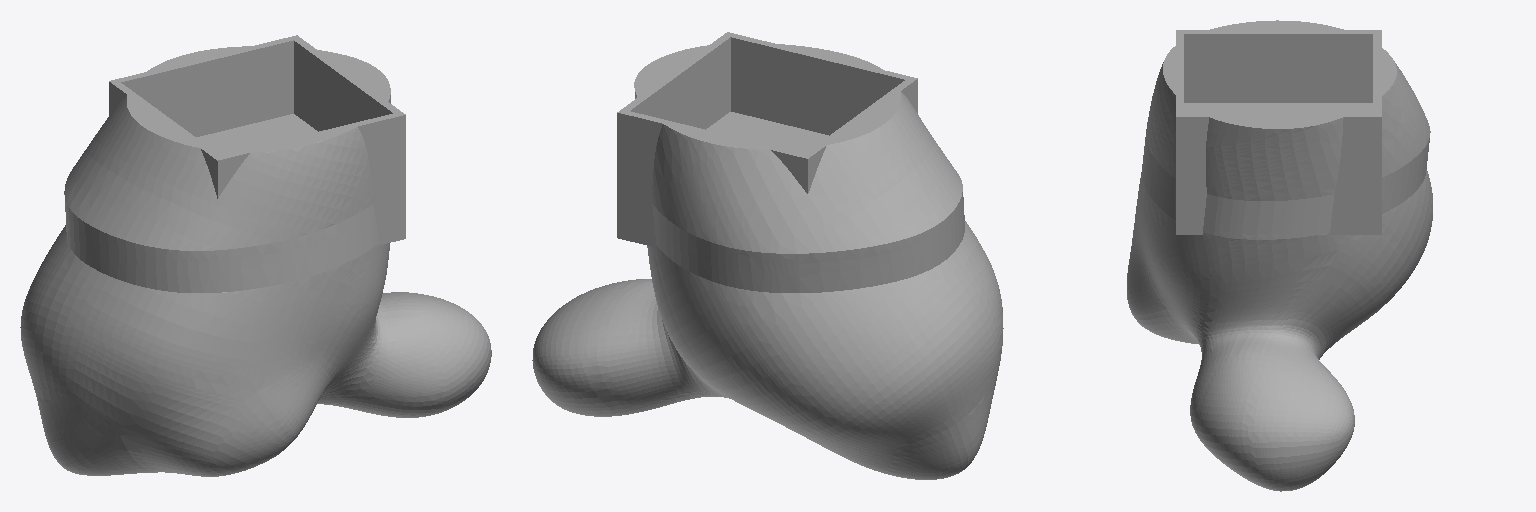
The robot description file, URDF, robot "FrogBot5_top-FrogBot5-y-2_bottom-FrogBot5-y-2":
<?xml version="1.0" ?>
<robot name="FrogBot5_top-FrogBot5-y-2_bottom-FrogBot5-y-2">

<material name="pla_5_percent_infill">
  <color rgba="0.700 0.700 0.700 1.000"/>
</material>

<link name="base_link">
  <inertial>
    <origin xyz="0 0 0" rpy="0 0 0"/>
    <mass value="1.4805118043364613"/>
    <inertia ixx="0.00519778244400068" iyy="0.011185972187213383" izz="0.012581059264896973" ixy="-0.0002102027550041139" iyz="-1.09064860282594e-05" ixz="-0.0008439426245005397"/>
  </inertial>
  <visual>
    <origin xyz="0 0 0" rpy="0 0 0"/>
    <geometry>
      <mesh filename="simple_meshes/base_link.stl" scale="0.001 0.001 0.001"/>
    </geometry>
    <material name="pla_5_percent_infill"/>
  </visual>
  <collision>
    <origin xyz="0 0 0" rpy="0 0 0"/>
    <geometry>
      <mesh filename="simple_meshes/base_link.stl" scale="0.001 0.001 0.001"/>
    </geometry>
  </collision>
</link>

<link name="body_1_0_1">
  <inertial>
    <origin xyz="-0.05492 -0.106321 -0.011198" rpy="0 0 0"/>
    <mass value="0.03190893016003801"/>
    <inertia ixx="2.4429898942020614e-05" iyy="2.7275982920612618e-05" izz="1.1434922102886071e-05" ixy="-8.511222338172071e-08" iyz="-1.420432485083929e-06" ixz="-8.68195859637681e-07"/>
  </inertial>
  <visual>
    <origin xyz="-0.05492 -0.106321 -0.011198" rpy="0 0 0"/>
    <geometry>
      <mesh filename="simple_meshes/body_1_0_1.stl" scale="0.001 0.001 0.001"/>
    </geometry>
    <material name="pla_5_percent_infill"/>
  </visual>
  <collision>
    <origin xyz="-0.05492 -0.106321 -0.011198" rpy="0 0 0"/>
    <geometry>
      <mesh filename="simple_meshes/body_1_0_1.stl" scale="0.001 0.001 0.001"/>
    </geometry>
  </collision>
</link>

<link name="body_1_1_1">
  <inertial>
    <origin xyz="0.058377 -0.106321 -0.025493" rpy="0 0 0"/>
    <mass value="0.052491266005535574"/>
    <inertia ixx="4.8257280305906425e-05" iyy="6.954699838675188e-05" izz="3.656339945115128e-05" ixy="-1.7908794482598706e-06" iyz="-7.955847608754994e-07" ixz="-2.2356305458316844e-05"/>
  </inertial>
  <visual>
    <origin xyz="0.058377 -0.106321 -0.025493" rpy="0 0 0"/>
    <geometry>
      <mesh filename="simple_meshes/body_1_1_1.stl" scale="0.001 0.001 0.001"/>
    </geometry>
    <material name="pla_5_percent_infill"/>
  </visual>
  <collision>
    <origin xyz="0.058377 -0.106321 -0.025493" rpy="0 0 0"/>
    <geometry>
      <mesh filename="simple_meshes/body_1_1_1.stl" scale="0.001 0.001 0.001"/>
    </geometry>
  </collision>
</link>

<link name="body_1_2_1">
  <inertial>
    <origin xyz="-0.053934 0.106321 -0.032331" rpy="0 0 0"/>
    <mass value="0.04528282570788592"/>
    <inertia ixx="4.6550121856413e-05" iyy="5.193071462967827e-05" izz="1.6522551288097355e-05" ixy="8.270233758516125e-08" iyz="-1.1493234214251516e-08" ixz="6.384866717018934e-06"/>
  </inertial>
  <visual>
    <origin xyz="-0.053934 0.106321 -0.032331" rpy="0 0 0"/>
    <geometry>
      <mesh filename="simple_meshes/body_1_2_1.stl" scale="0.001 0.001 0.001"/>
    </geometry>
    <material name="pla_5_percent_infill"/>
  </visual>
  <collision>
    <origin xyz="-0.053934 0.106321 -0.032331" rpy="0 0 0"/>
    <geometry>
      <mesh filename="simple_meshes/body_1_2_1.stl" scale="0.001 0.001 0.001"/>
    </geometry>
  </collision>
</link>

<link name="body_1_3_1">
  <inertial>
    <origin xyz="0.057483 0.106321 -0.032919" rpy="0 0 0"/>
    <mass value="0.05070974172626571"/>
    <inertia ixx="5.066073609378977e-05" iyy="6.7181989017562e-05" izz="2.932919879109863e-05" ixy="-6.577252664034024e-07" iyz="-1.820119408813464e-06" ixz="-1.9680371224464432e-05"/>
  </inertial>
  <visual>
    <origin xyz="0.057483 0.106321 -0.032919" rpy="0 0 0"/>
    <geometry>
      <mesh filename="simple_meshes/body_1_3_1.stl" scale="0.001 0.001 0.001"/>
    </geometry>
    <material name="pla_5_percent_infill"/>
  </visual>
  <collision>
    <origin xyz="0.057483 0.106321 -0.032919" rpy="0 0 0"/>
    <geometry>
      <mesh filename="simple_meshes/body_1_3_1.stl" scale="0.001 0.001 0.001"/>
    </geometry>
  </collision>
</link>

<link name="body_2_0_1">
  <inertial>
    <origin xyz="-0.051784 -0.143449 0.080454" rpy="0 0 0"/>
    <mass value="0.07760875051303201"/>
    <inertia ixx="7.662273675442194e-05" iyy="8.393004935969761e-05" izz="9.35027023761211e-05" ixy="-4.54805802130049e-06" iyz="3.7950665444104036e-06" ixz="-1.307774025447665e-06"/>
  </inertial>
  <visual>
    <origin xyz="-0.051784 -0.143449 0.080454" rpy="0 0 0"/>
    <geometry>
      <mesh filename="simple_meshes/body_2_0_1.stl" scale="0.001 0.001 0.001"/>
    </geometry>
    <material name="pla_5_percent_infill"/>
  </visual>
  <collision>
    <origin xyz="-0.051784 -0.143449 0.080454" rpy="0 0 0"/>
    <geometry>
      <mesh filename="simple_meshes/body_2_0_1.stl" scale="0.001 0.001 0.001"/>
    </geometry>
  </collision>
</link>

<link name="body_2_1_1">
  <inertial>
    <origin xyz="0.108798 -0.147527 0.080454" rpy="0 0 0"/>
    <mass value="0.08927521415235605"/>
    <inertia ixx="5.059492834724342e-05" iyy="7.031797062725205e-05" izz="7.02220438275284e-05" ixy="-2.0383774248376903e-06" iyz="-3.0294926272461664e-09" ixz="-1.4148800505534107e-06"/>
  </inertial>
  <visual>
    <origin xyz="0.108798 -0.147527 0.080454" rpy="0 0 0"/>
    <geometry>
      <mesh filename="simple_meshes/body_2_1_1.stl" scale="0.001 0.001 0.001"/>
    </geometry>
    <material name="pla_5_percent_infill"/>
  </visual>
  <collision>
    <origin xyz="0.108798 -0.147527 0.080454" rpy="0 0 0"/>
    <geometry>
      <mesh filename="simple_meshes/body_2_1_1.stl" scale="0.001 0.001 0.001"/>
    </geometry>
  </collision>
</link>

<link name="body_2_2_1">
  <inertial>
    <origin xyz="-0.065031 0.147225 0.080454" rpy="0 0 0"/>
    <mass value="0.07657926924251547"/>
    <inertia ixx="7.528644161000023e-05" iyy="7.35970162488277e-05" izz="8.594488308659226e-05" ixy="6.021758922198999e-06" iyz="-2.343747949047235e-06" ixz="-3.689037848296408e-06"/>
  </inertial>
  <visual>
    <origin xyz="-0.065031 0.147225 0.080454" rpy="0 0 0"/>
    <geometry>
      <mesh filename="simple_meshes/body_2_2_1.stl" scale="0.001 0.001 0.001"/>
    </geometry>
    <material name="pla_5_percent_infill"/>
  </visual>
  <collision>
    <origin xyz="-0.065031 0.147225 0.080454" rpy="0 0 0"/>
    <geometry>
      <mesh filename="simple_meshes/body_2_2_1.stl" scale="0.001 0.001 0.001"/>
    </geometry>
  </collision>
</link>

<link name="body_2_3_1">
  <inertial>
    <origin xyz="0.101339 0.151086 0.080454" rpy="0 0 0"/>
    <mass value="0.10061755237812887"/>
    <inertia ixx="6.449725713528372e-05" iyy="9.468606929102395e-05" izz="8.360080327839354e-05" ixy="7.214355447653694e-07" iyz="-2.9852871009129756e-06" ixz="4.464565758604926e-06"/>
  </inertial>
  <visual>
    <origin xyz="0.101339 0.151086 0.080454" rpy="0 0 0"/>
    <geometry>
      <mesh filename="simple_meshes/body_2_3_1.stl" scale="0.001 0.001 0.001"/>
    </geometry>
    <material name="pla_5_percent_infill"/>
  </visual>
  <collision>
    <origin xyz="0.101339 0.151086 0.080454" rpy="0 0 0"/>
    <geometry>
      <mesh filename="simple_meshes/body_2_3_1.stl" scale="0.001 0.001 0.001"/>
    </geometry>
  </collision>
</link>

<joint name="joint_1_0" type="revolute">
  <origin xyz="0.05492 0.106321 0.011198" rpy="0 0 0"/>
  <parent link="base_link"/>
  <child link="body_1_0_1"/>
  <axis xyz="0.0 0.0 -1.0"/>
  <limit upper="1.2" lower="-1.2" effort="3.8" velocity="5.4"/>
</joint>
<transmission name="joint_1_0_tran">
  <type>transmission_interface/SimpleTransmission</type>
  <joint name="joint_1_0">
    <hardwareInterface>PositionJointInterface</hardwareInterface>
  </joint>
  <actuator name="joint_1_0_actr">
    <hardwareInterface>PositionJointInterface</hardwareInterface>
    <mechanicalReduction>1</mechanicalReduction>
  </actuator>
</transmission>

<joint name="joint_1_1" type="revolute">
  <origin xyz="-0.058377 0.106321 0.025493" rpy="0 0 0"/>
  <parent link="base_link"/>
  <child link="body_1_1_1"/>
  <axis xyz="0.0 0.0 -1.0"/>
  <limit upper="1.2" lower="-1.2" effort="3.8" velocity="5.4"/>
</joint>
<transmission name="joint_1_1_tran">
  <type>transmission_interface/SimpleTransmission</type>
  <joint name="joint_1_1">
    <hardwareInterface>PositionJointInterface</hardwareInterface>
  </joint>
  <actuator name="joint_1_1_actr">
    <hardwareInterface>PositionJointInterface</hardwareInterface>
    <mechanicalReduction>1</mechanicalReduction>
  </actuator>
</transmission>

<joint name="joint_1_2" type="revolute">
  <origin xyz="0.053934 -0.106321 0.032331" rpy="0 0 0"/>
  <parent link="base_link"/>
  <child link="body_1_2_1"/>
  <axis xyz="0.0 0.0 -1.0"/>
  <limit upper="1.2" lower="-1.2" effort="3.8" velocity="5.4"/>
</joint>
<transmission name="joint_1_2_tran">
  <type>transmission_interface/SimpleTransmission</type>
  <joint name="joint_1_2">
    <hardwareInterface>PositionJointInterface</hardwareInterface>
  </joint>
  <actuator name="joint_1_2_actr">
    <hardwareInterface>PositionJointInterface</hardwareInterface>
    <mechanicalReduction>1</mechanicalReduction>
  </actuator>
</transmission>

<joint name="joint_1_3" type="revolute">
  <origin xyz="-0.057483 -0.106321 0.032919" rpy="0 0 0"/>
  <parent link="base_link"/>
  <child link="body_1_3_1"/>
  <axis xyz="0.0 0.0 -1.0"/>
  <limit upper="1.2" lower="-1.2" effort="3.8" velocity="5.4"/>
</joint>
<transmission name="joint_1_3_tran">
  <type>transmission_interface/SimpleTransmission</type>
  <joint name="joint_1_3">
    <hardwareInterface>PositionJointInterface</hardwareInterface>
  </joint>
  <actuator name="joint_1_3_actr">
    <hardwareInterface>PositionJointInterface</hardwareInterface>
    <mechanicalReduction>1</mechanicalReduction>
  </actuator>
</transmission>

<joint name="joint_2_0" type="revolute">
  <origin xyz="-0.003136 0.037128 -0.091652" rpy="0 0 0"/>
  <parent link="body_1_0_1"/>
  <child link="body_2_0_1"/>
  <axis xyz="0.0 1.0 0.0"/>
  <limit upper="1.2" lower="-1.2" effort="3.8" velocity="5.4"/>
</joint>
<transmission name="joint_2_0_tran">
  <type>transmission_interface/SimpleTransmission</type>
  <joint name="joint_2_0">
    <hardwareInterface>PositionJointInterface</hardwareInterface>
  </joint>
  <actuator name="joint_2_0_actr">
    <hardwareInterface>PositionJointInterface</hardwareInterface>
    <mechanicalReduction>1</mechanicalReduction>
  </actuator>
</transmission>

<joint name="joint_2_1" type="revolute">
  <origin xyz="-0.050421 0.041206 -0.105947" rpy="0 0 0"/>
  <parent link="body_1_1_1"/>
  <child link="body_2_1_1"/>
  <axis xyz="0.0 1.0 0.0"/>
  <limit upper="1.2" lower="-1.2" effort="3.8" velocity="5.4"/>
</joint>
<transmission name="joint_2_1_tran">
  <type>transmission_interface/SimpleTransmission</type>
  <joint name="joint_2_1">
    <hardwareInterface>PositionJointInterface</hardwareInterface>
  </joint>
  <actuator name="joint_2_1_actr">
    <hardwareInterface>PositionJointInterface</hardwareInterface>
    <mechanicalReduction>1</mechanicalReduction>
  </actuator>
</transmission>

<joint name="joint_2_2" type="revolute">
  <origin xyz="0.011097 -0.040904 -0.112785" rpy="0 0 0"/>
  <parent link="body_1_2_1"/>
  <child link="body_2_2_1"/>
  <axis xyz="0.0 1.0 0.0"/>
  <limit upper="1.2" lower="-1.2" effort="3.8" velocity="5.4"/>
</joint>
<transmission name="joint_2_2_tran">
  <type>transmission_interface/SimpleTransmission</type>
  <joint name="joint_2_2">
    <hardwareInterface>PositionJointInterface</hardwareInterface>
  </joint>
  <actuator name="joint_2_2_actr">
    <hardwareInterface>PositionJointInterface</hardwareInterface>
    <mechanicalReduction>1</mechanicalReduction>
  </actuator>
</transmission>

<joint name="joint_2_3" type="revolute">
  <origin xyz="-0.043856 -0.044765 -0.113373" rpy="0 0 0"/>
  <parent link="body_1_3_1"/>
  <child link="body_2_3_1"/>
  <axis xyz="0.0 1.0 0.0"/>
  <limit upper="1.2" lower="-1.2" effort="3.8" velocity="5.4"/>
</joint>
<transmission name="joint_2_3_tran">
  <type>transmission_interface/SimpleTransmission</type>
  <joint name="joint_2_3">
    <hardwareInterface>PositionJointInterface</hardwareInterface>
  </joint>
  <actuator name="joint_2_3_actr">
    <hardwareInterface>PositionJointInterface</hardwareInterface>
    <mechanicalReduction>1</mechanicalReduction>
  </actuator>
</transmission>

</robot>

--- What the picture shows (computed from the rendered views, not written in the file) ---
Views: 3 orthographic renders of the robot side by side, from view 1: azimuth 30°, elevation 25°; view 2: azimuth 150°, elevation 25°; view 3: azimuth 270°, elevation 25°.
Robot: FrogBot5_top-FrogBot5-y-2_bottom-FrogBot5-y-2 — 9 links, 8 joints (8 revolute); root link base_link; default pose: every joint at zero.
Visible links, largest first — view 1: body_2_3_1; view 2: body_2_3_1; view 3: body_2_3_1.
Link boxes in pixels (<box>): body_2_3_1: <box>20,35,491,476</box>; body_2_3_1: <box>532,32,1003,479</box>; body_2_3_1: <box>1127,20,1432,491</box>.
Bounding box of the posed robot: 0.1119 × 0.0721 × 0.0862 m (x, y, z).
Meshes: 9 distinct files referenced, 1 mesh visuals loaded (1 binary STL); not drawn: 8 (reference not matched to a file when rendering).